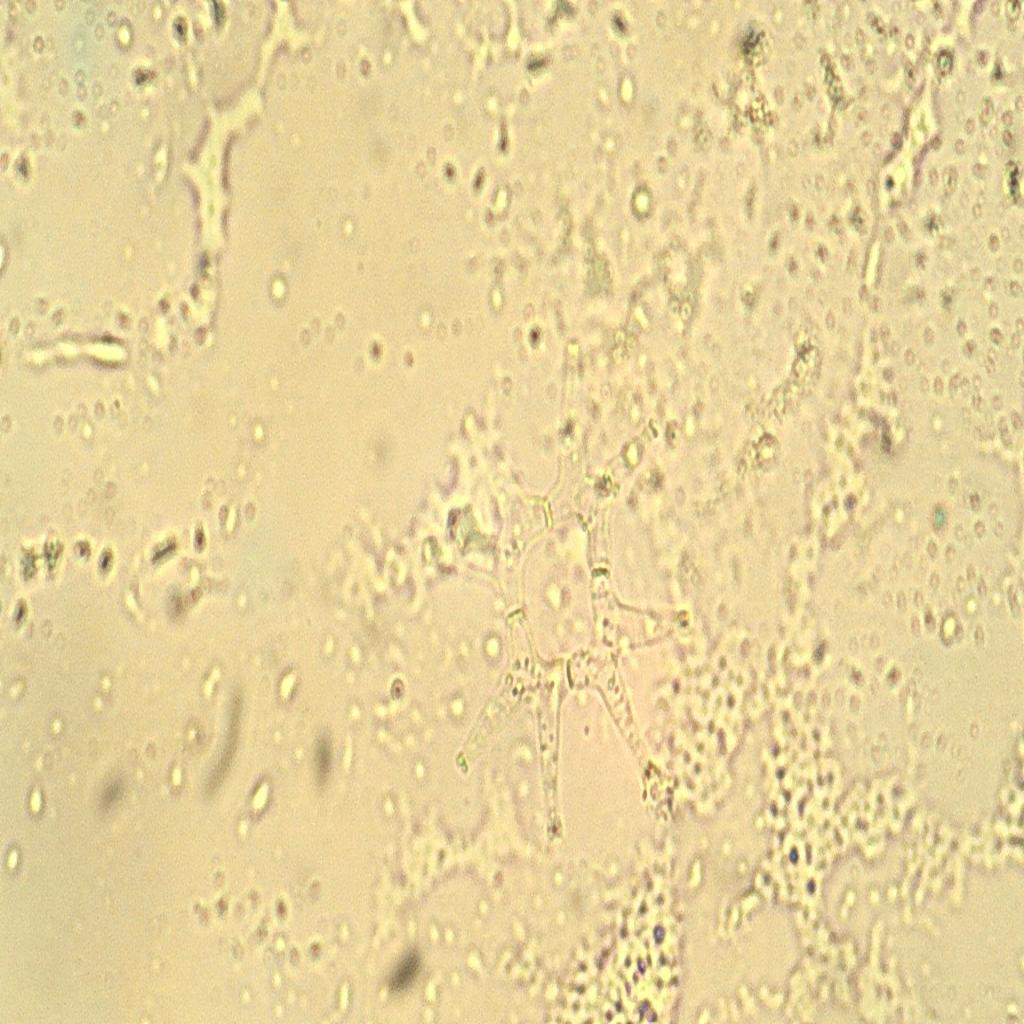Pediastrum_75TH: (397, 319, 720, 870)
